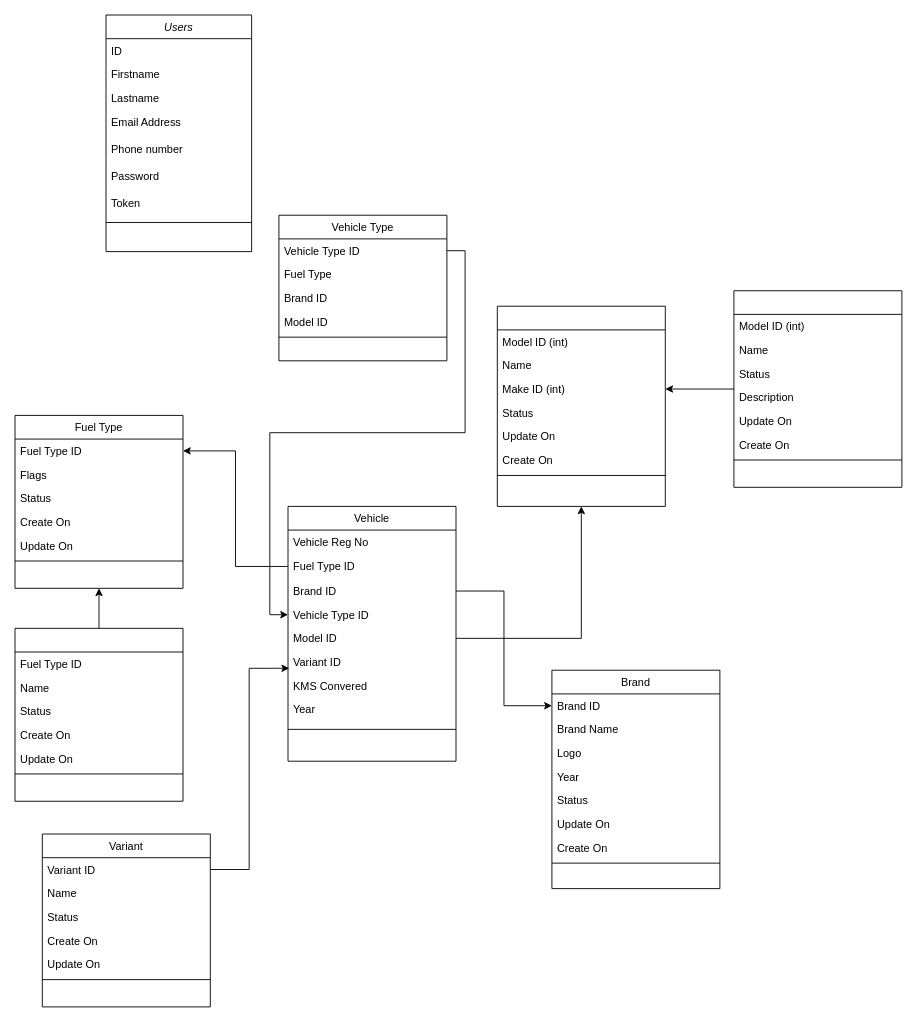
This 917x1022 diagram has some shape labels left out. The shapes that lost their labels are listed below. From the top down, each one's box as (x1, y1, x2, y2) in pixels, then its label:
(496, 305, 665, 506): Models
(733, 290, 902, 487): Vehicle Make
(14, 627, 183, 801): TFuel Type
